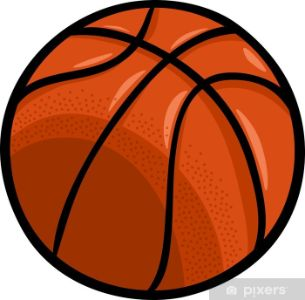baloncesto: (1, 1, 304, 298)
